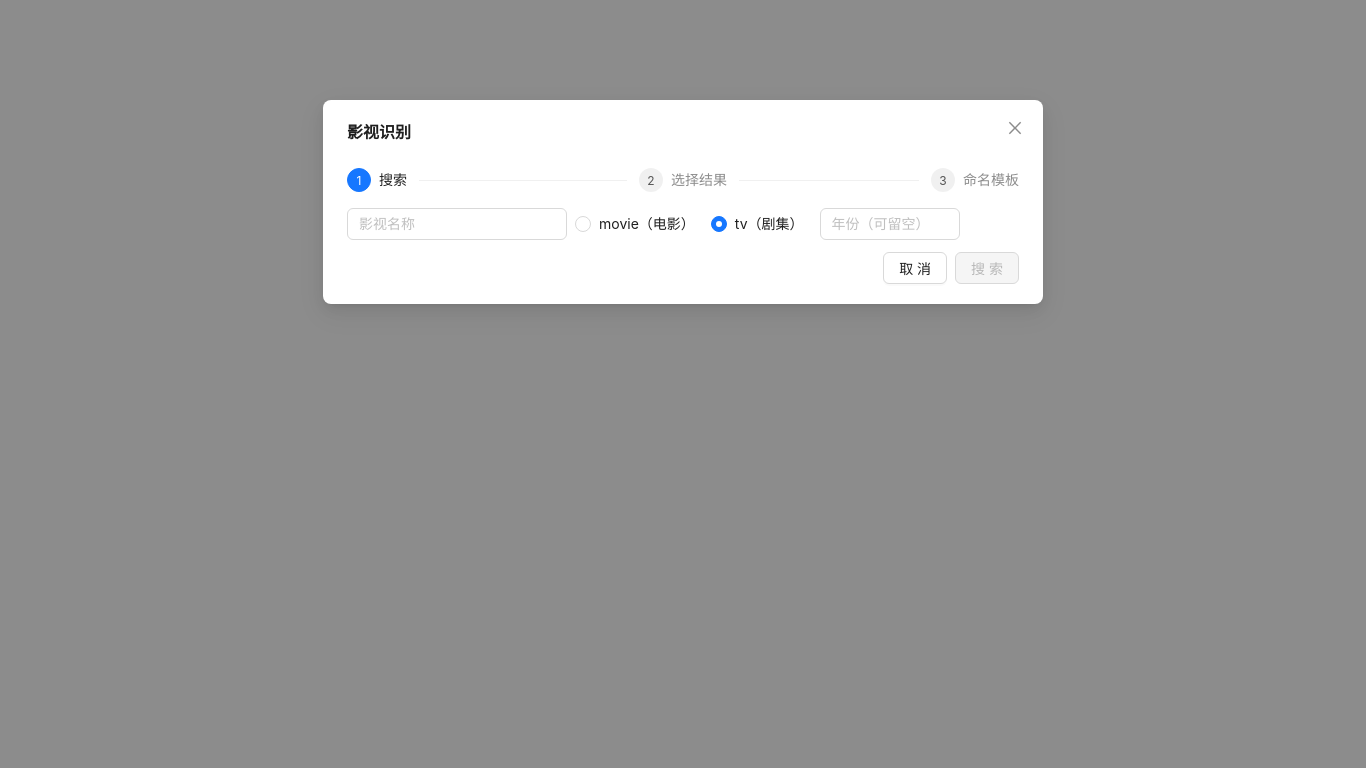
选择结果后进入模板步骤
The width and height of the screenshot is (1366, 768).
Click the field with placeholder "影视名称" at (457, 224), box top-left (347, 208), bottom-right (567, 240)
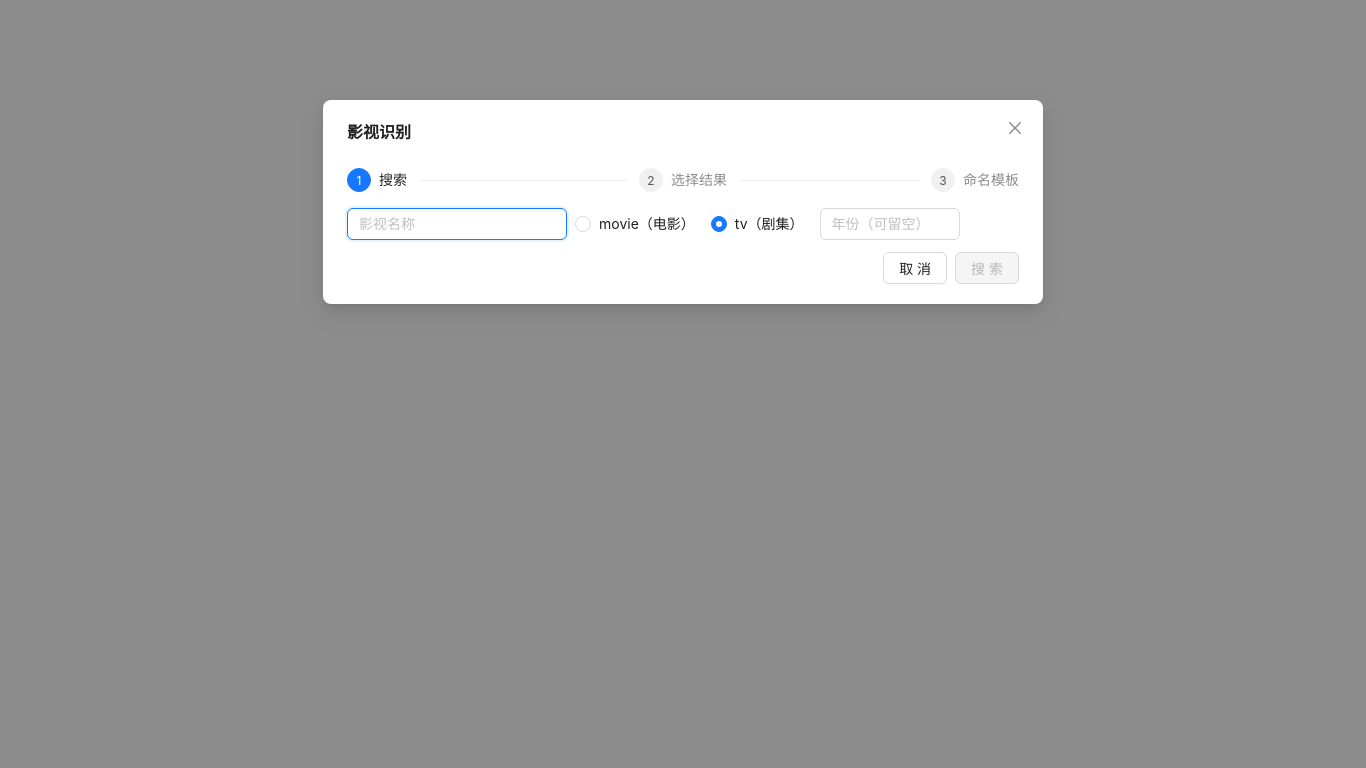
Type keys "示例"
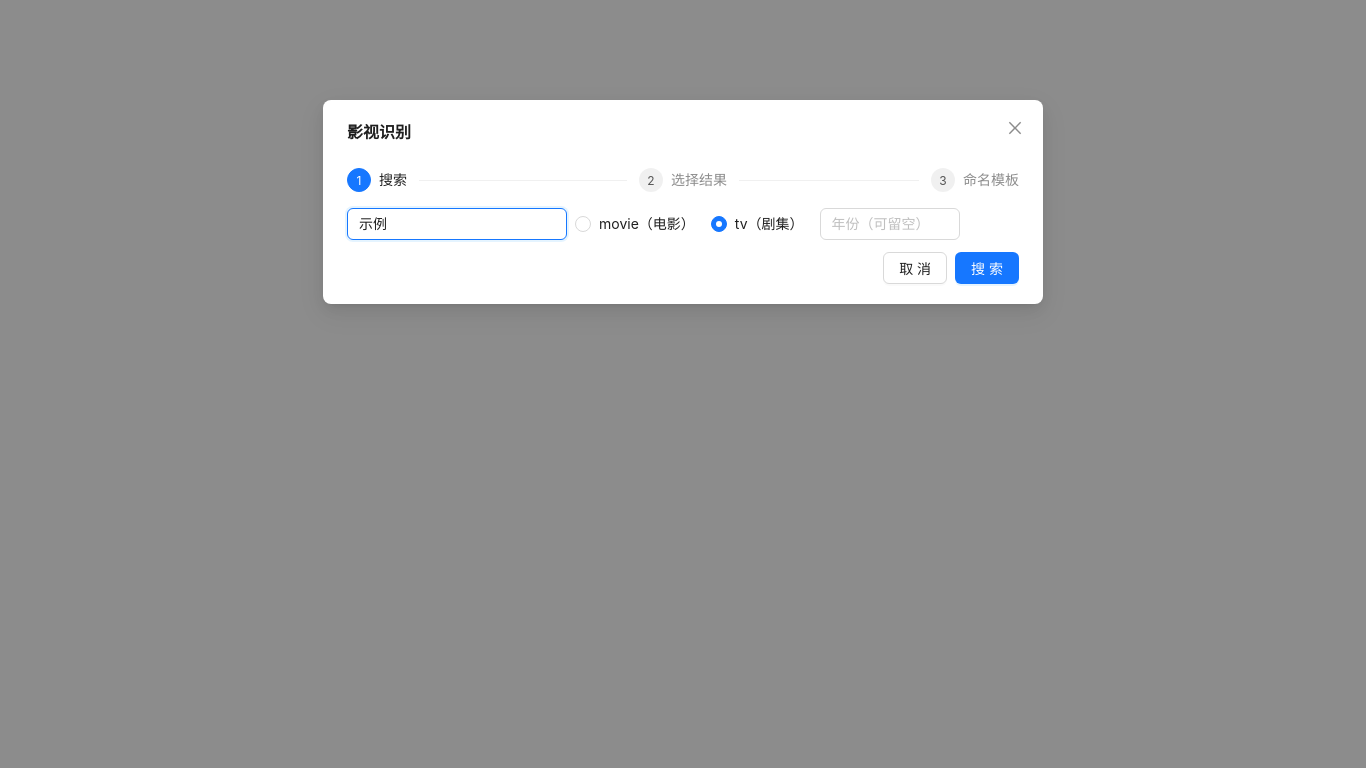
Click the button "搜 索" at (987, 268), box top-left (955, 252), bottom-right (1019, 284)
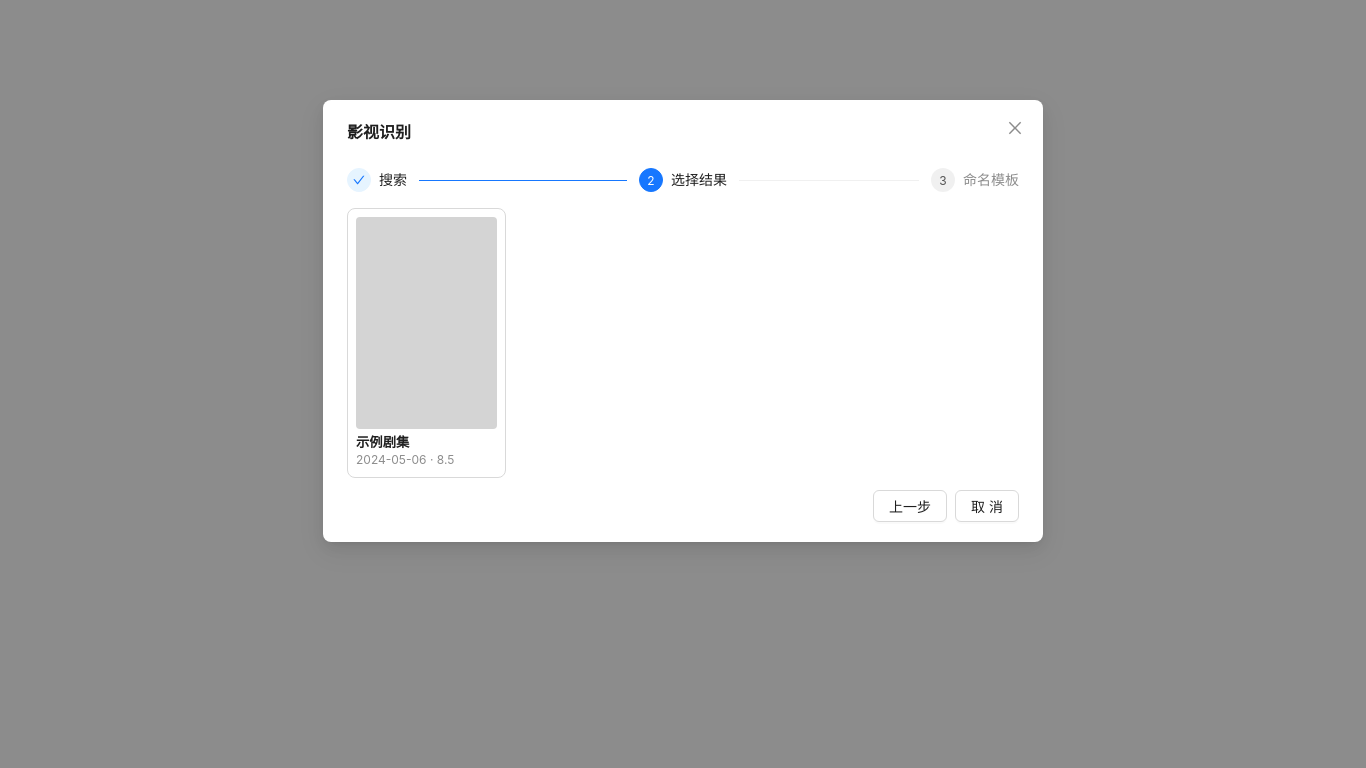
Click the button with test id "tmdb-card" at (426, 343), box top-left (347, 208), bottom-right (506, 478)
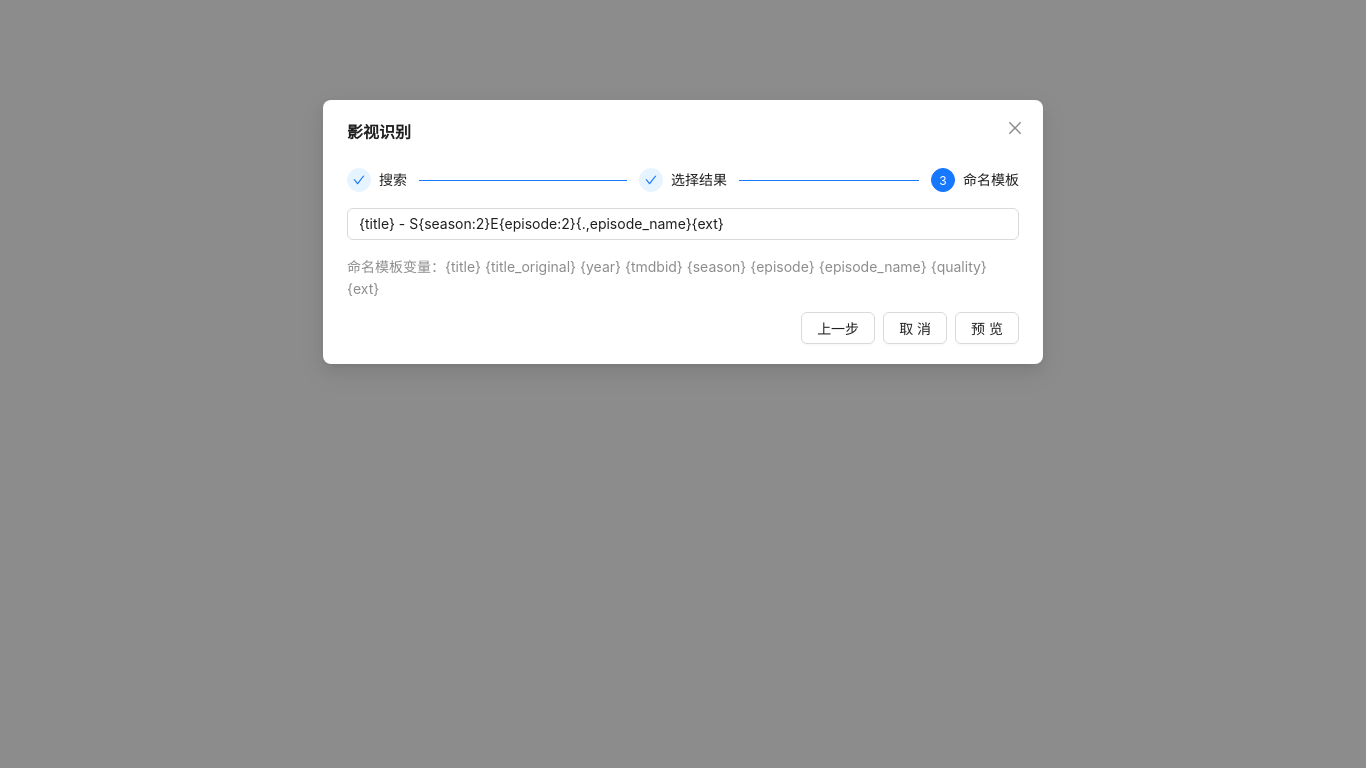
Result: the field showing "{title} - S{season:2}E{episode:2}{.,episode_name}{ext}" is shown at top-left (347, 208), bottom-right (1019, 240)
Result: the text "命名模板变量：{title} {title_original} {year} {tmdbid} {season} {episode} {episode_name} {quality} {ext}" is shown at top-left (347, 258), bottom-right (987, 297)
